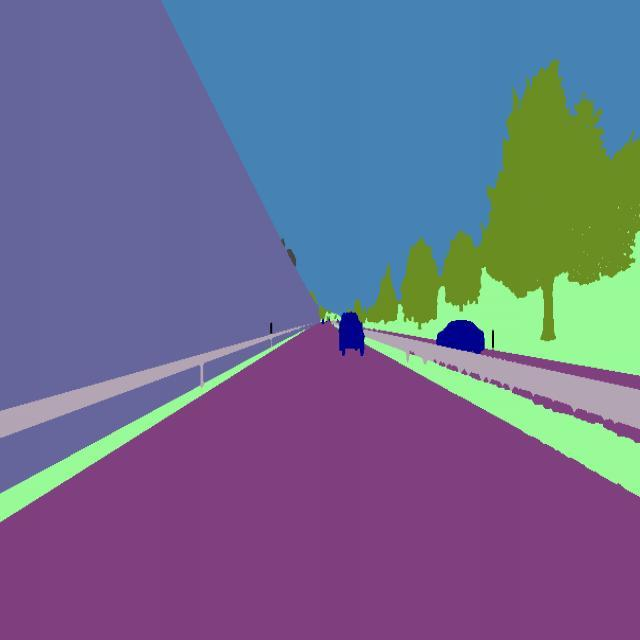safe: (435, 316, 488, 356), (336, 308, 368, 360)
